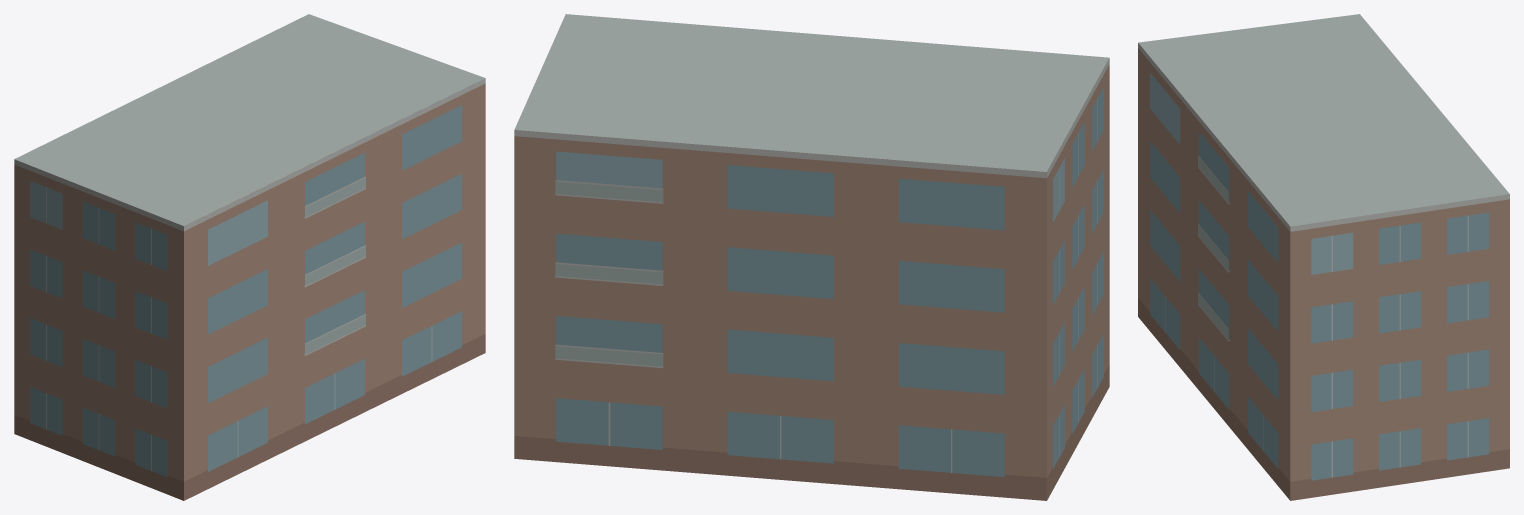
The model's file is survey-upis-32703337.glb.
3 views of the same model, side by side, from view 1: azimuth 30°, elevation 25°; view 2: azimuth 150°, elevation 25°; view 3: azimuth 270°, elevation 25° (orthographic). The views are drawn at different scales.
Parts seen in each view (by area): view 1: survey-upis-32703337.tmp; view 2: survey-upis-32703337.tmp; view 3: survey-upis-32703337.tmp.
Part boxes in pixels (x1,y1,x2,y2): survey-upis-32703337.tmp: [14, 14, 485, 500]; survey-upis-32703337.tmp: [514, 14, 1109, 500]; survey-upis-32703337.tmp: [1138, 14, 1509, 500].
Bounding box in the file's own units: 21.47 × 12.9 × 15.86.
